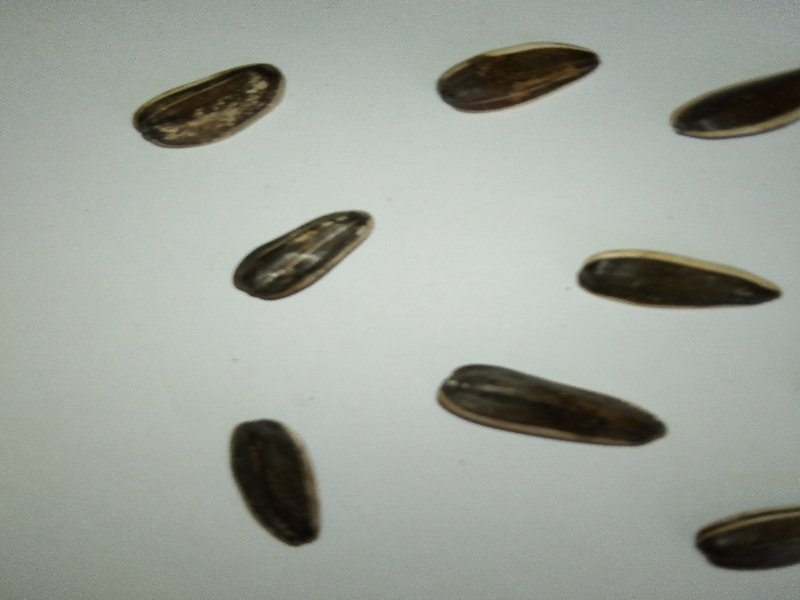girasol: (428, 351, 678, 458), (124, 52, 304, 159), (209, 407, 337, 555), (562, 240, 787, 320), (228, 201, 380, 312), (425, 31, 610, 122)
